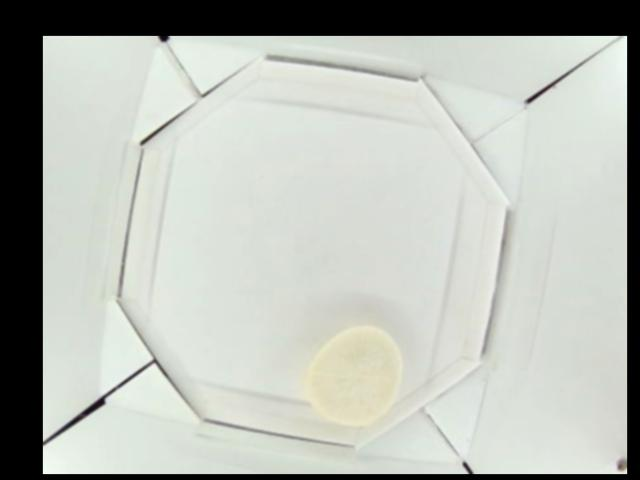Mooli: (304, 325, 402, 424)
